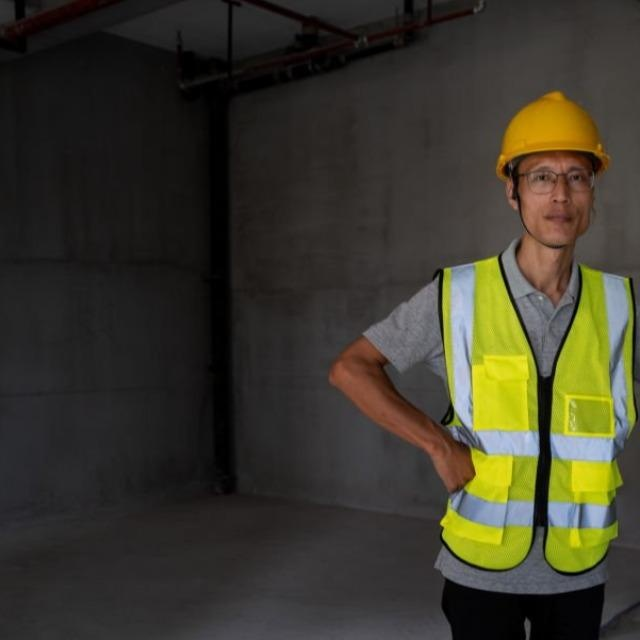Con_Casco: (495, 90, 610, 246)
Con_Chaleco: (430, 254, 640, 577)
